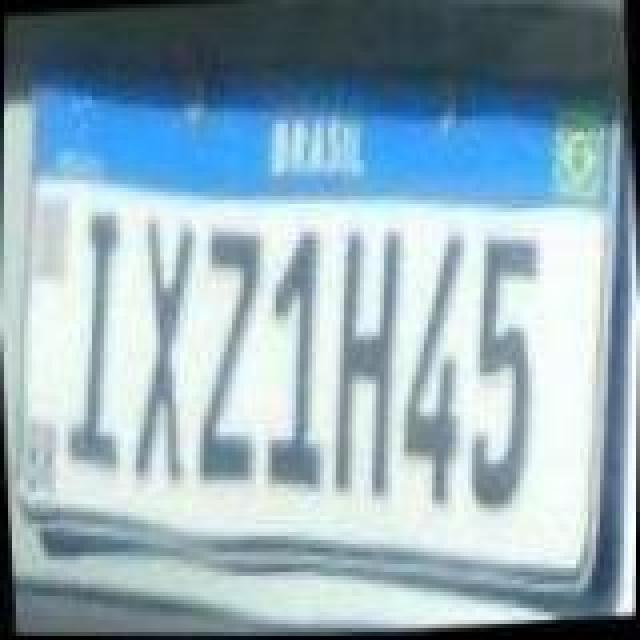1: (252, 224, 340, 488)
4: (386, 230, 486, 514)
5: (452, 232, 560, 516)
H: (316, 228, 420, 500)
I: (52, 204, 140, 472)
X: (120, 212, 216, 484)
Z: (182, 228, 282, 484)
